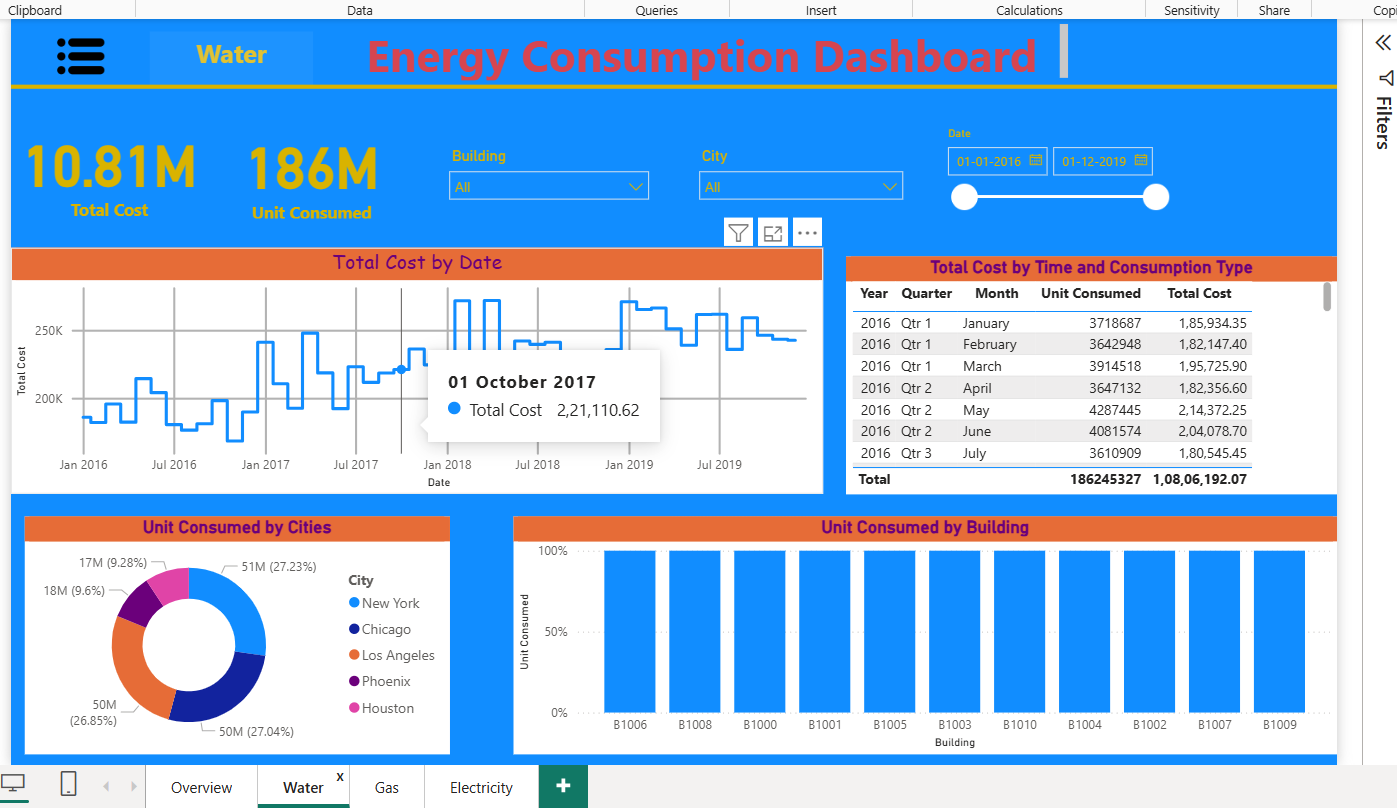

This screenshot's page, from the dashboard's own definition file:
{"tool":"powerbi","page":{"name":"Water","canvas":[1280,720],"ordinal":1},"visuals":[{"type":"shape","box":[0,0,1280.3,130.7],"z":0},{"type":"image","box":[29.6,8.1,74.1,55.3],"z":1000},{"type":"textbox","box":[337.6,0,687.2,64.6],"z":2000},{"type":"textbox","box":[133.4,12.1,157.7,51.2],"z":3000},{"type":"card","fields":{"Values":["Energy Consumptions.Total Cost"]},"box":[0,84.9,190,122.6],"z":4000},{"type":"card","fields":{"Values":["Energy Consumptions.Unit Consumed"]},"box":[190,98.4,199.5,98.4],"z":5000},{"type":"slicer","fields":{"Values":["Energy Consumptions.Building"]},"box":[412.4,118.6,212.9,79.5],"z":6000},{"type":"slicer","fields":{"Values":["Building Master.City"]},"box":[653.6,118.6,217,72.8],"z":7000},{"type":"slicer","fields":{"Values":["Energy Consumptions.Date"]},"box":[892.1,98.4,234.5,109.2],"z":8000},{"type":"tableEx","title":"Total Cost by Time and Consumption Type","fields":{"Values":["Energy Consumptions.Date.Variation.Date Hierarchy.Year","Energy Consumptions.Date.Variation.Date Hierarchy.Quarter","Energy Consumptions.Date.Variation.Date Hierarchy.Month","Energy Consumptions.Unit Consumed","Energy Consumptions.Total Cost"]},"box":[805.9,229.2,474.1,229.2],"z":9000},{"type":"donutChart","title":"Unit Consumed by Cities","fields":{"Y":["Energy Consumptions.Unit Consumed"],"Category":["Building Master.City"]},"box":[13.3,480.2,410.2,229.2],"z":10000},{"type":"hundredPercentStackedColumnChart","fields":{"Y":["Energy Consumptions.Unit Consumed"],"Category":["Energy Consumptions.Building"]},"box":[485,480.2,795,229.2],"z":11000},{"type":"lineChart","fields":{"Y":["Energy Consumptions.Total Cost"],"Category":["Energy Consumptions.Date"]},"box":[0,220.8,784.2,237.7],"z":12000},{"type":"actionButton","box":[0,0,103.3,63.3],"z":14000},{"type":"actionButton","box":[240,3.3,103.3,63.3],"z":15000}]}

Visuals, with their boxes on the page's 1280x720 design canvas (x1, y1, x2, y2). These are canvas units, not pixel positions in the 1397x808 screenshot, which may show the page scaled, cropped or inside an application window:
shape: Rect(0, 0, 1280, 131)
image: Rect(30, 8, 104, 63)
textbox: Rect(338, 0, 1025, 65)
textbox: Rect(133, 12, 291, 63)
card - Energy Consumptions.Total Cost: Rect(0, 85, 190, 208)
card - Energy Consumptions.Unit Consumed: Rect(190, 98, 390, 197)
slicer - Energy Consumptions.Building: Rect(412, 119, 625, 198)
slicer - Building Master.City: Rect(654, 119, 871, 191)
slicer - Energy Consumptions.Date: Rect(892, 98, 1127, 208)
"Total Cost by Time and Consumption Type" tableEx: Rect(806, 229, 1280, 458)
"Unit Consumed by Cities" donutChart: Rect(13, 480, 424, 709)
hundredPercentStackedColumnChart - Energy Consumptions.Unit Consumed x Energy Consumptions.Building: Rect(485, 480, 1280, 709)
lineChart - Energy Consumptions.Total Cost x Energy Consumptions.Date: Rect(0, 221, 784, 458)
actionButton: Rect(0, 0, 103, 63)
actionButton: Rect(240, 3, 343, 67)
